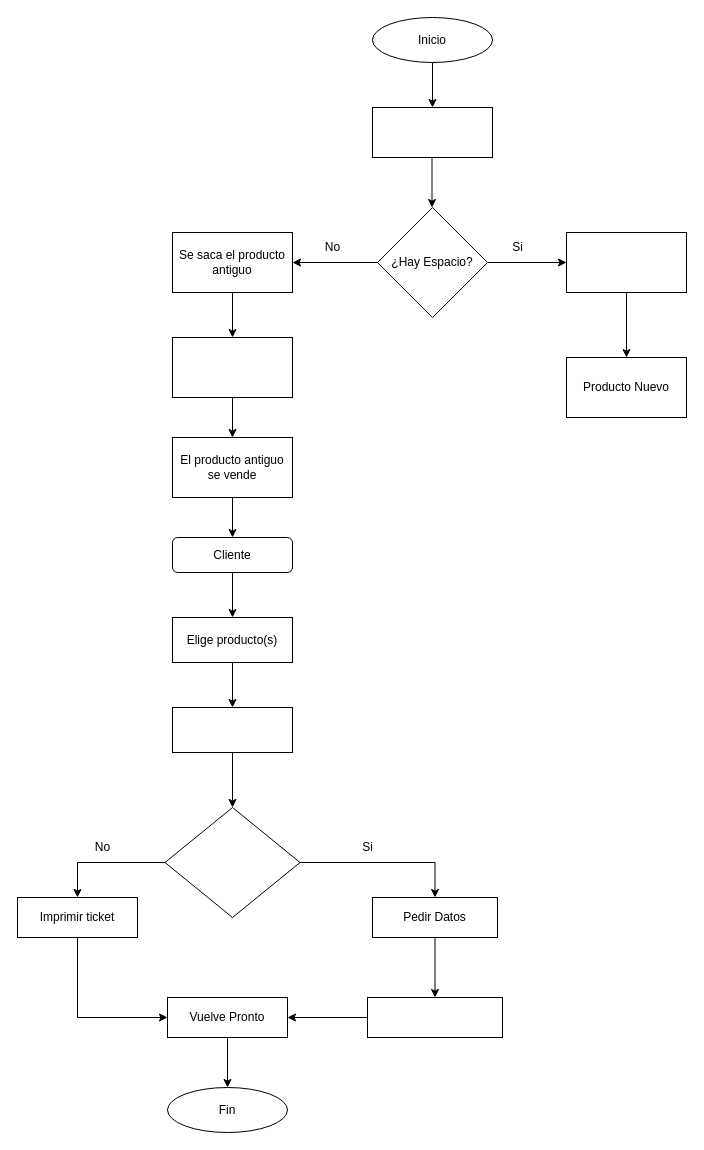
This 704x1150 diagram has some shape labels left out. The shapes that lost their labels are listed below. From the top down, each one's box as (x1, y1, x2, y2) in pixels, then its label:
(372, 106, 492, 158): Registrar datos del producto
(566, 232, 686, 292): Guardar
(172, 336, 292, 398): Guardar el producto nuevo
(172, 706, 292, 752): Realiza el pago
(164, 806, 300, 918): ¿Quiere Factura?
(366, 996, 502, 1038): Imprimir Factura
